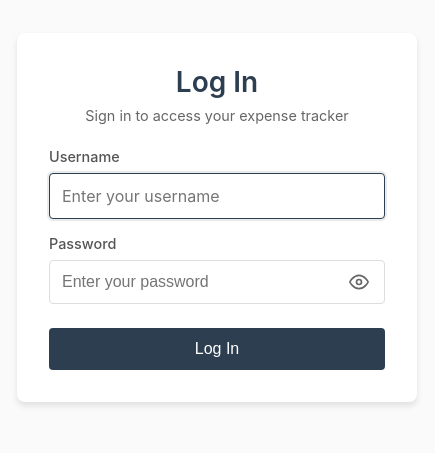
Test case: LoginPage › Login flow › displays error message on login failure
The width and height of the screenshot is (435, 453).
In the field labelled "Username": (217, 196) [49,172,385,218], type "testuser"
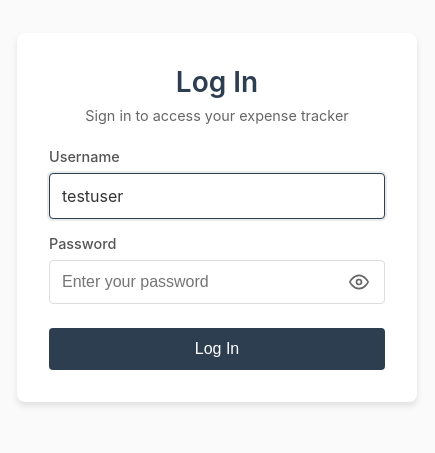
In the password field labelled "Password": (217, 282) [49,260,385,304], type "wrongpassword"
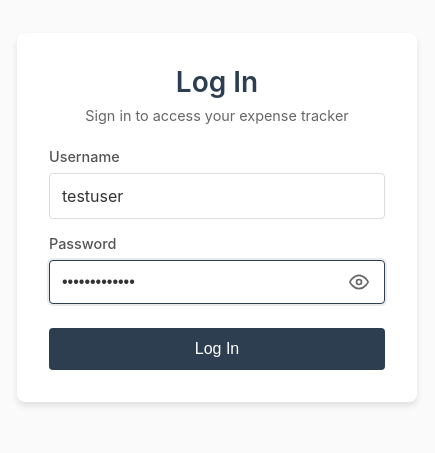
Click the button "Log In": (217, 348) [49,328,385,370]
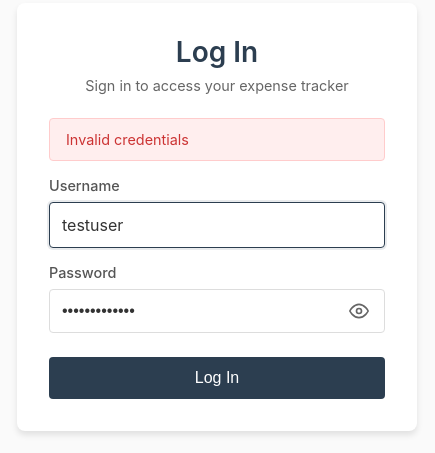
Check: the message "Invalid credentials" is shown, box [49,118,385,161]
